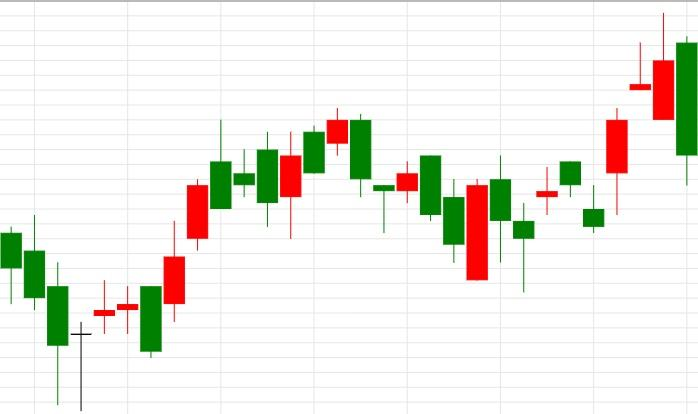bullish_engulfing_rise: (326, 108, 489, 280)
